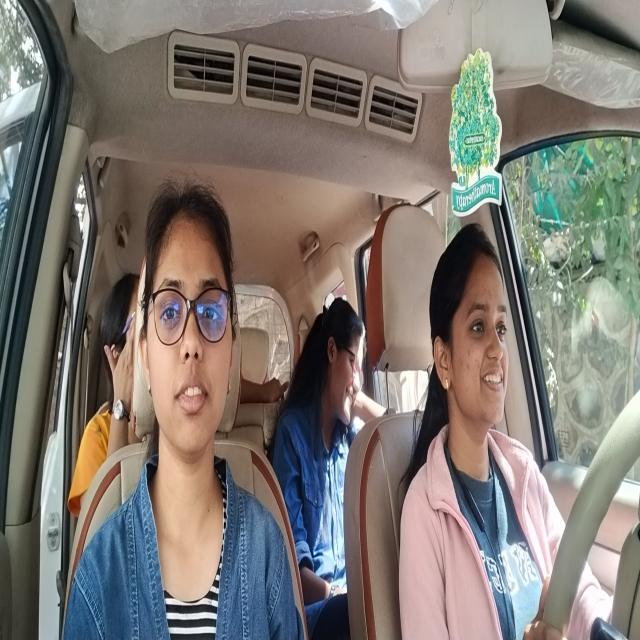person: (142, 192, 239, 469), (428, 223, 516, 435), (312, 292, 367, 436), (100, 277, 142, 422)
